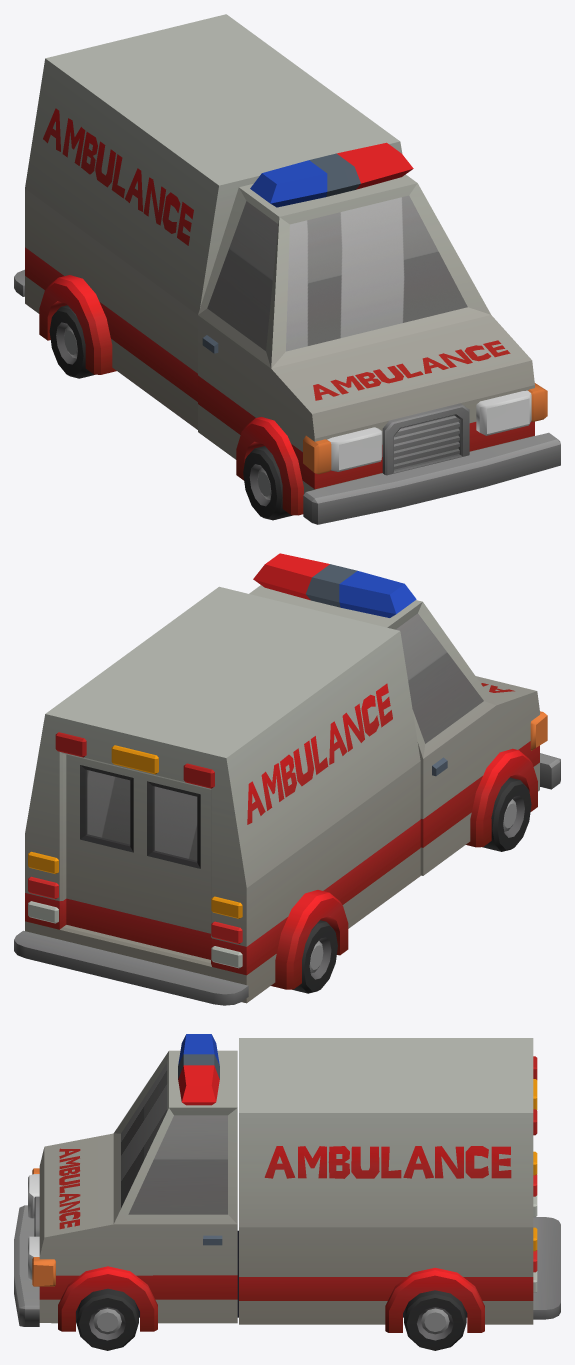
File: Ambulance.glb
3 views of the same model, one above another, from view 1: azimuth 30°, elevation 25°; view 2: azimuth 150°, elevation 25°; view 3: azimuth 270°, elevation 25° (orthographic). The views are drawn at different scales.
Visible parts, largest first — view 1: Ambulance, Wheel_Fr, Wheel_Br; view 2: Ambulance, Wheel_Fr, Wheel_Br; view 3: Ambulance, Wheel_Fl, Wheel_Bl.
Boxes of the visible parts, x1=… form: Ambulance: x1=14, y1=14, x2=560, y2=524; Wheel_Fr: x1=243, y1=446, x2=292, y2=520; Wheel_Br: x1=49, y1=305, x2=94, y2=378; Ambulance: x1=14, y1=553, x2=560, y2=1005; Wheel_Fr: x1=482, y1=777, x2=531, y2=851; Wheel_Br: x1=292, y1=920, x2=337, y2=993; Ambulance: x1=14, y1=1034, x2=560, y2=1332; Wheel_Fl: x1=76, y1=1288, x2=138, y2=1350; Wheel_Bl: x1=404, y1=1290, x2=466, y2=1350.
Size of the model in its own units: 1.19 by 1.29 by 2.64.
5 materials, 5 textured.
